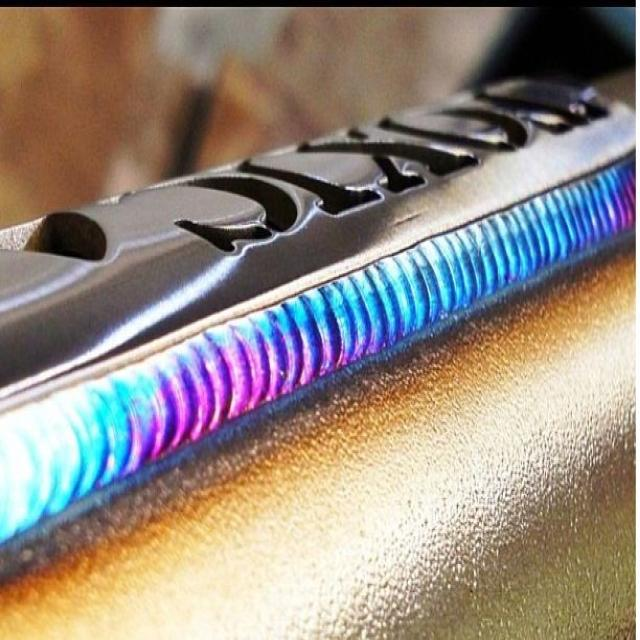Good Welding: (0, 79, 635, 543)
